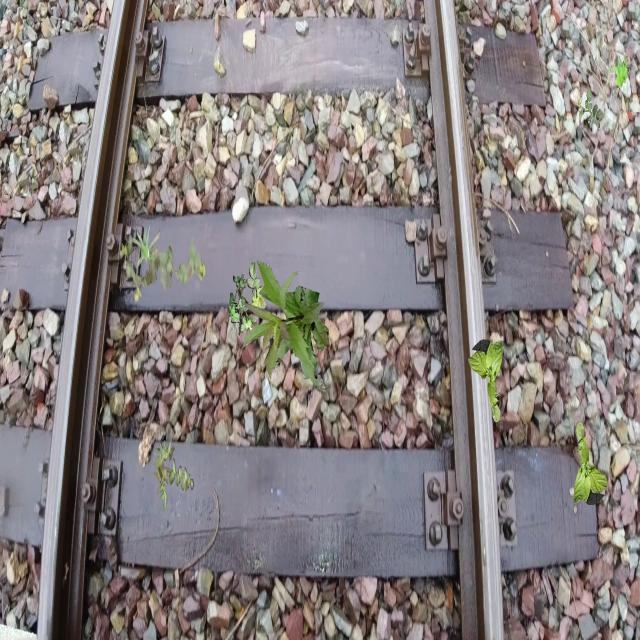Plant: (240, 260, 328, 390), (120, 234, 206, 302), (468, 339, 504, 422), (153, 440, 194, 512), (573, 422, 608, 506), (228, 262, 266, 336), (128, 224, 160, 270), (576, 87, 604, 128), (609, 55, 630, 88)
